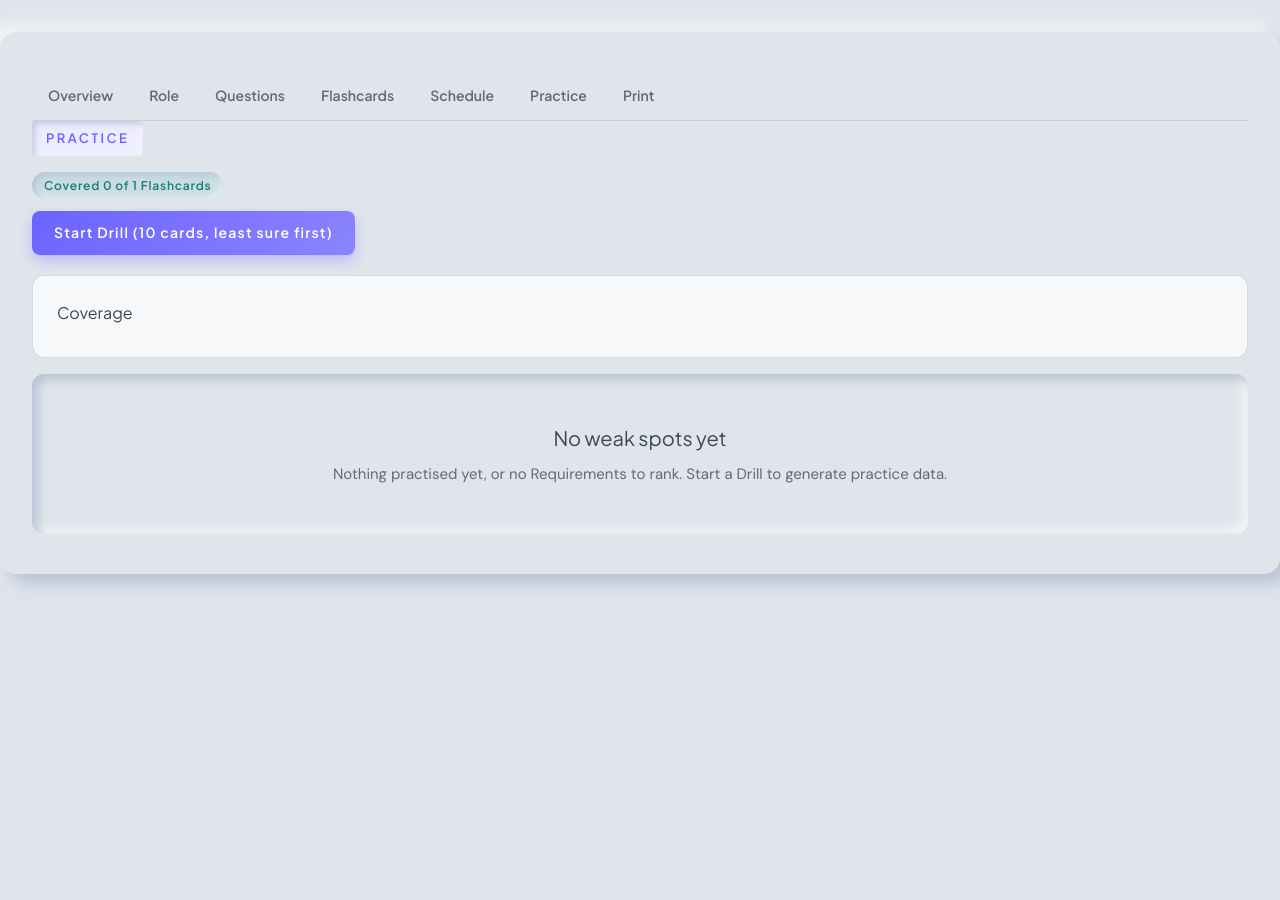
practice Drill › starts a Drill, reveals with Space and rates with 1
The width and height of the screenshot is (1280, 900).
Step 1. Click the button "Start Drill (10 cards, least sure first)" → point(193, 233), box [32, 211, 355, 255]
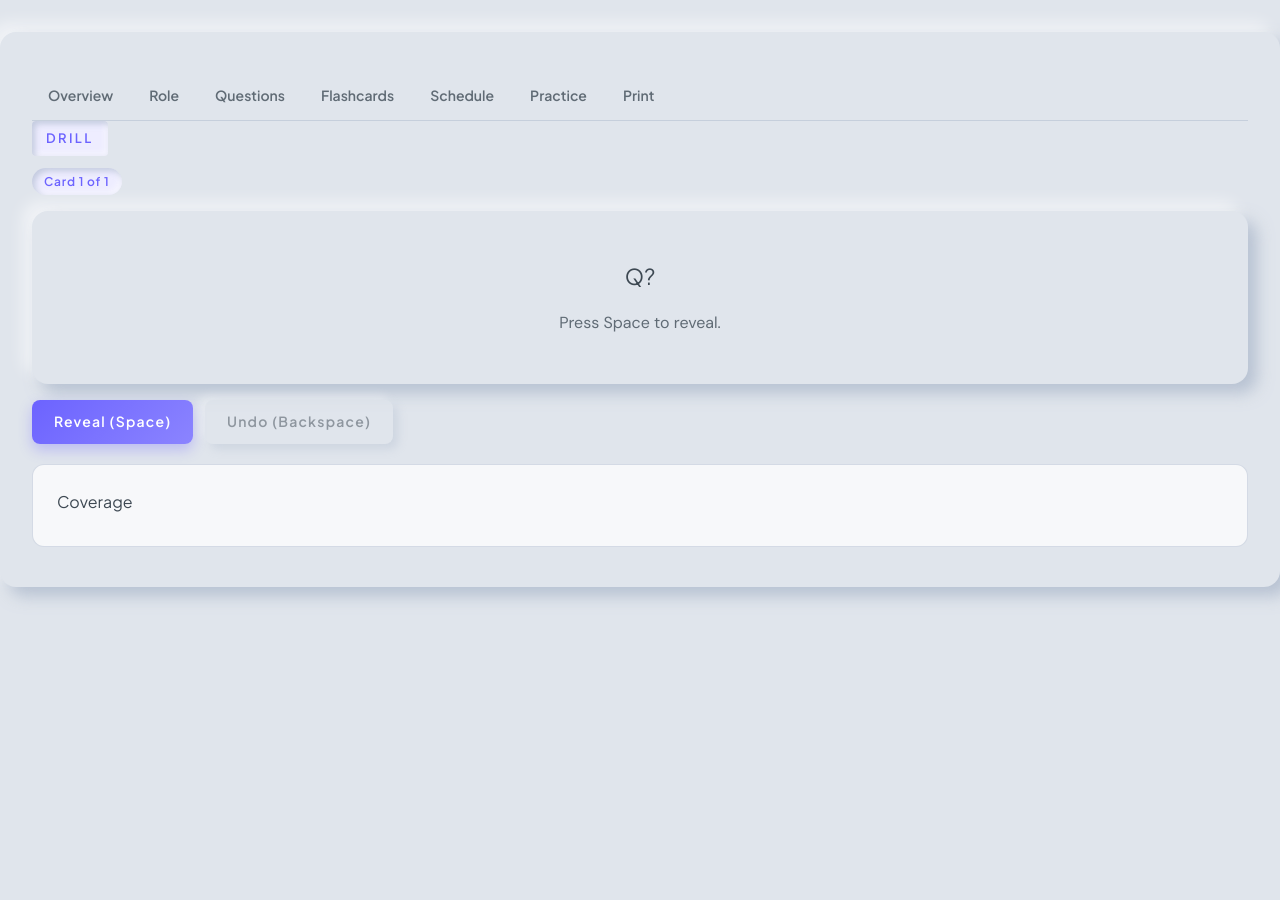
Expected: the text "Card 1 of 1" is shown, [32, 168, 122, 195]
Step 2. Type keys " "
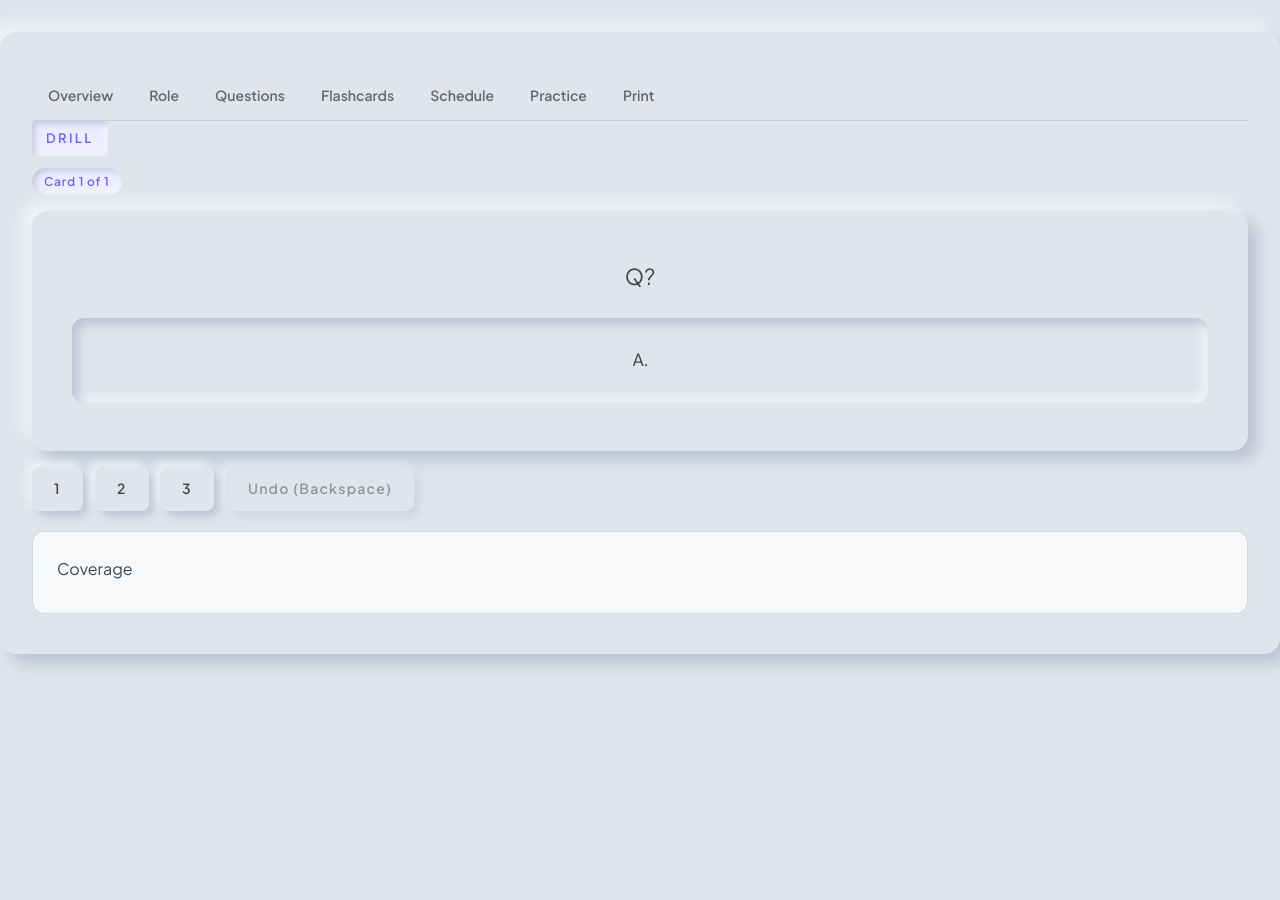
Expected: the text "A." is shown, [72, 318, 1208, 403]
Step 3. Type keys "1"
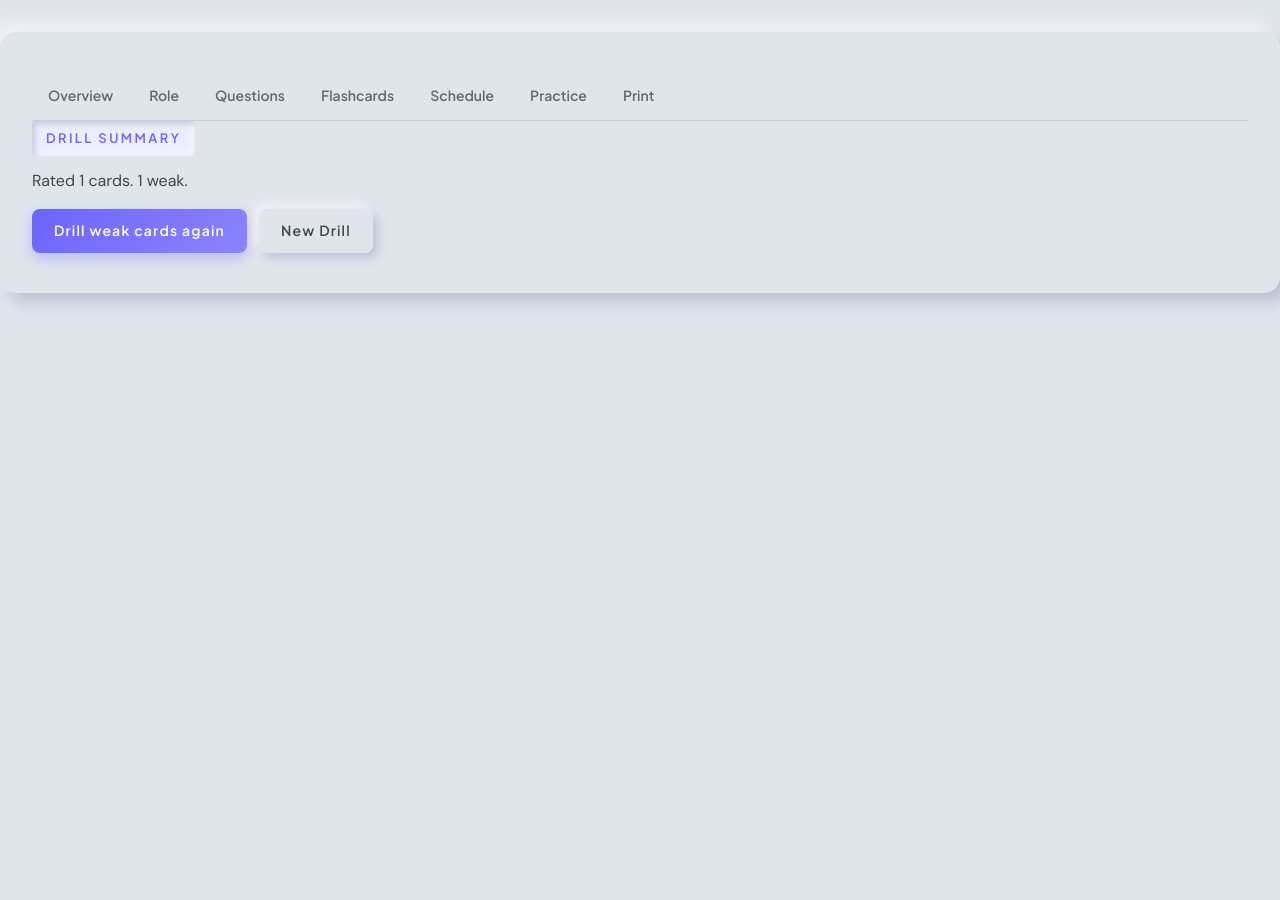
Expected: the text "Drill summary" is shown, [32, 121, 195, 156]
